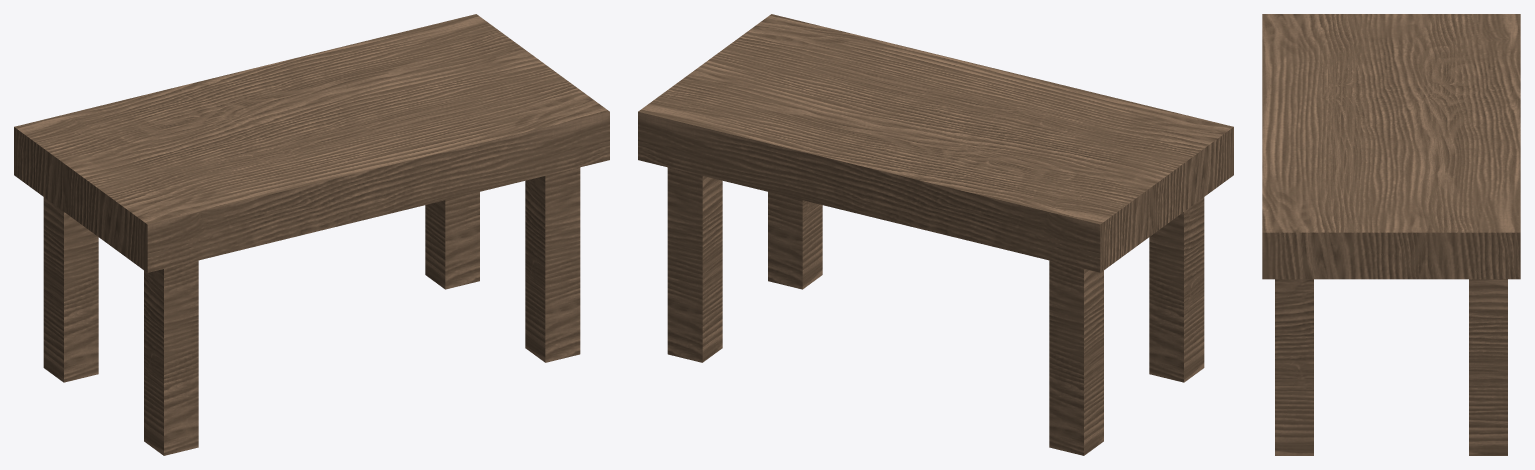
File: table.glb
3 renders of one model, left to right at view 1: azimuth 30°, elevation 25°; view 2: azimuth 150°, elevation 25°; view 3: azimuth 270°, elevation 25°, orthographic. The views are drawn at different scales.
Parts seen in each view (by area): view 1: Table; view 2: Table; view 3: Table.
Part boxes in pixels (x1,y1,x2,y2): Table: (14,14,609,455); Table: (638,14,1233,455); Table: (1262,14,1520,455).
Size of the model in its own units: 2 by 1 by 1.
1 material, 1 textured.
